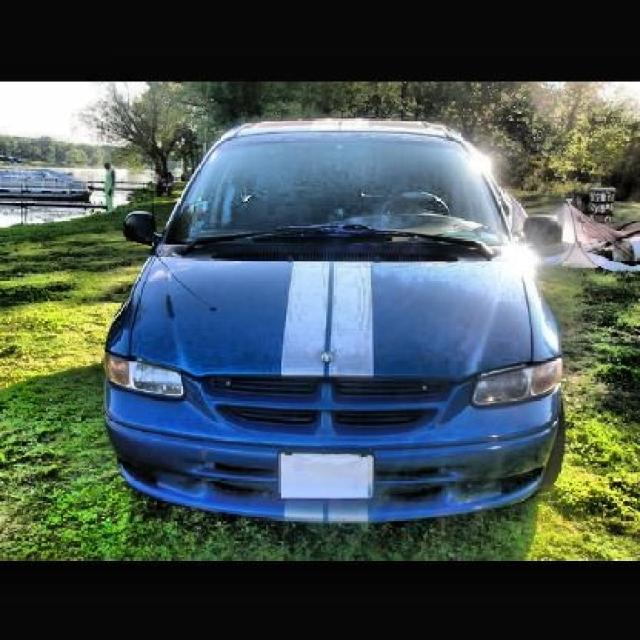blue: (105, 120, 564, 511)
